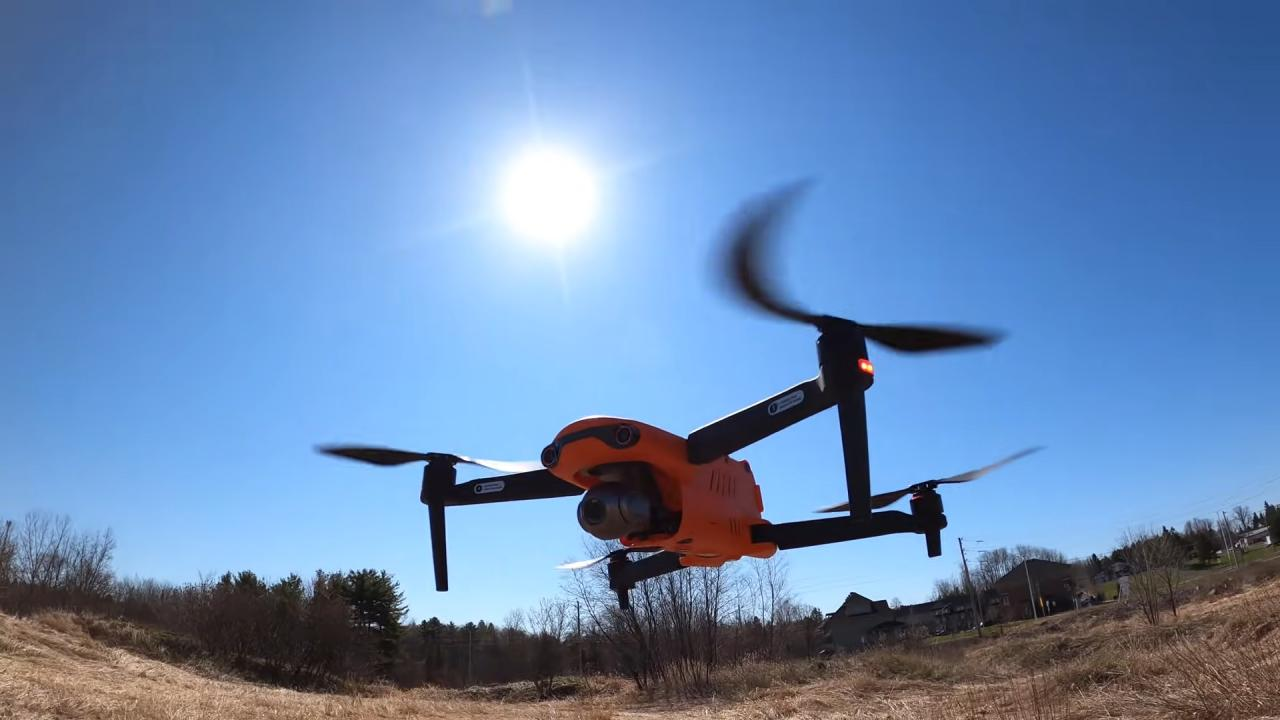Drone: (288, 156, 1070, 631)
